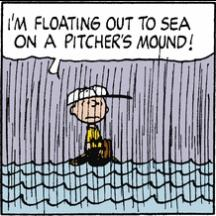charlie: (66, 84, 114, 158)
